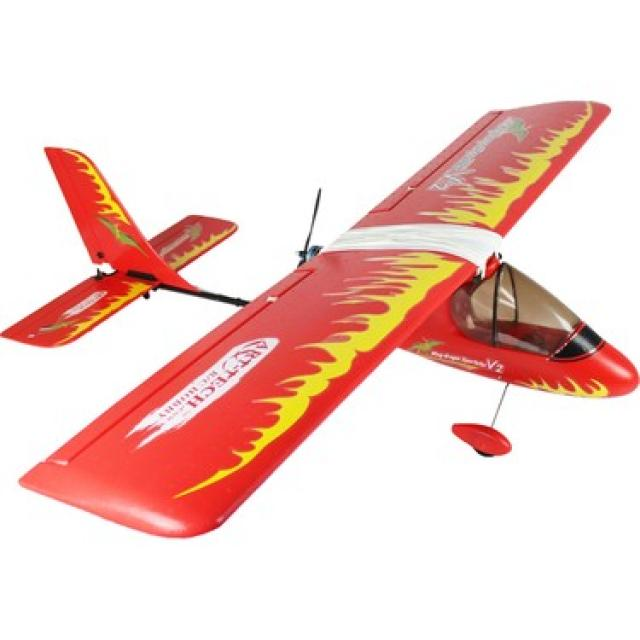iha: (1, 99, 640, 541)
